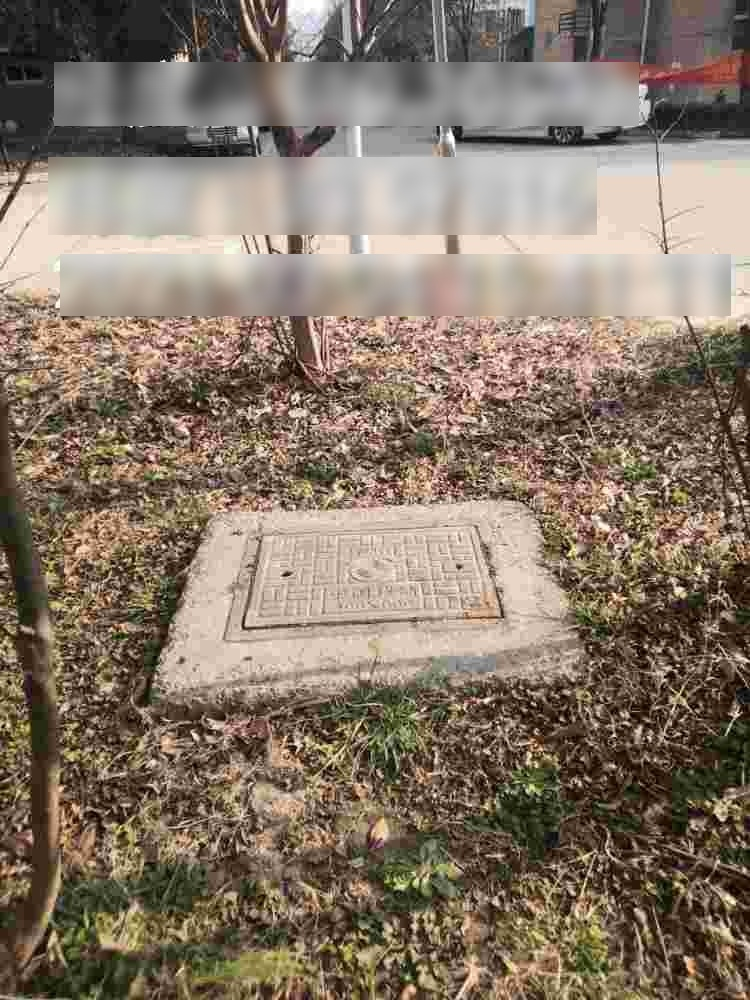good: (225, 516, 517, 639)
